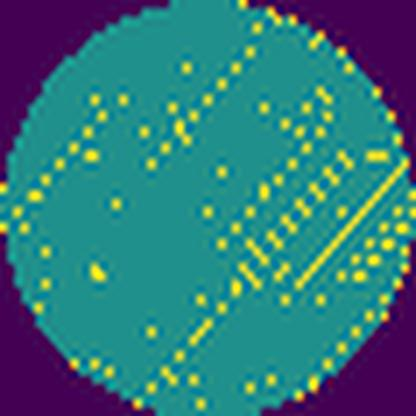Scratch: (216, 108, 336, 254), (143, 45, 260, 178), (294, 158, 406, 294), (3, 108, 110, 230)
